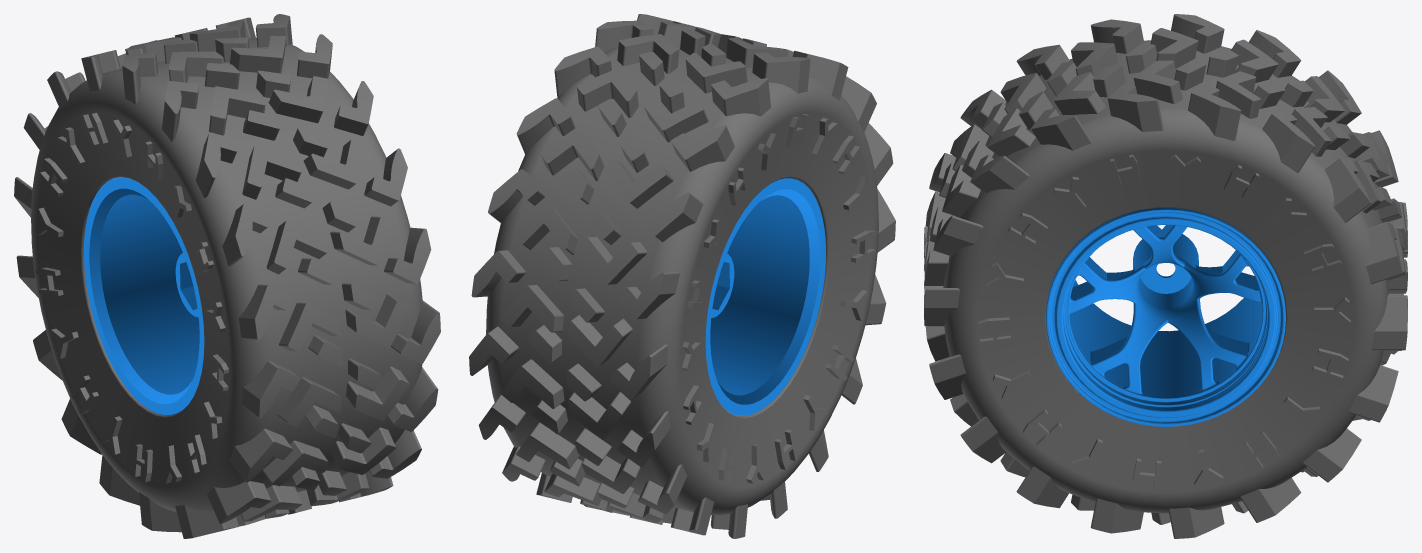
File: Plastic Wheel 130mm v1 v1.glb.glb
3 views of the same model, side by side, from view 1: azimuth 30°, elevation 25°; view 2: azimuth 150°, elevation 25°; view 3: azimuth 270°, elevation 25° (orthographic).
Parts seen in each view (by area): view 1: Tyre, Plastic Rim; view 2: Tyre, Plastic Rim; view 3: Tyre, Plastic Rim.
Boxes of the visible parts, box(x1,y1,x2,y2) form: Tyre: box(14, 14, 440, 538); Plastic Rim: box(84, 177, 204, 415); Tyre: box(469, 14, 895, 538); Plastic Rim: box(705, 177, 825, 415); Tyre: box(924, 14, 1407, 538); Plastic Rim: box(1046, 208, 1285, 426).
Size of the model in its own units: 0.0579 by 0.125 by 0.125.
